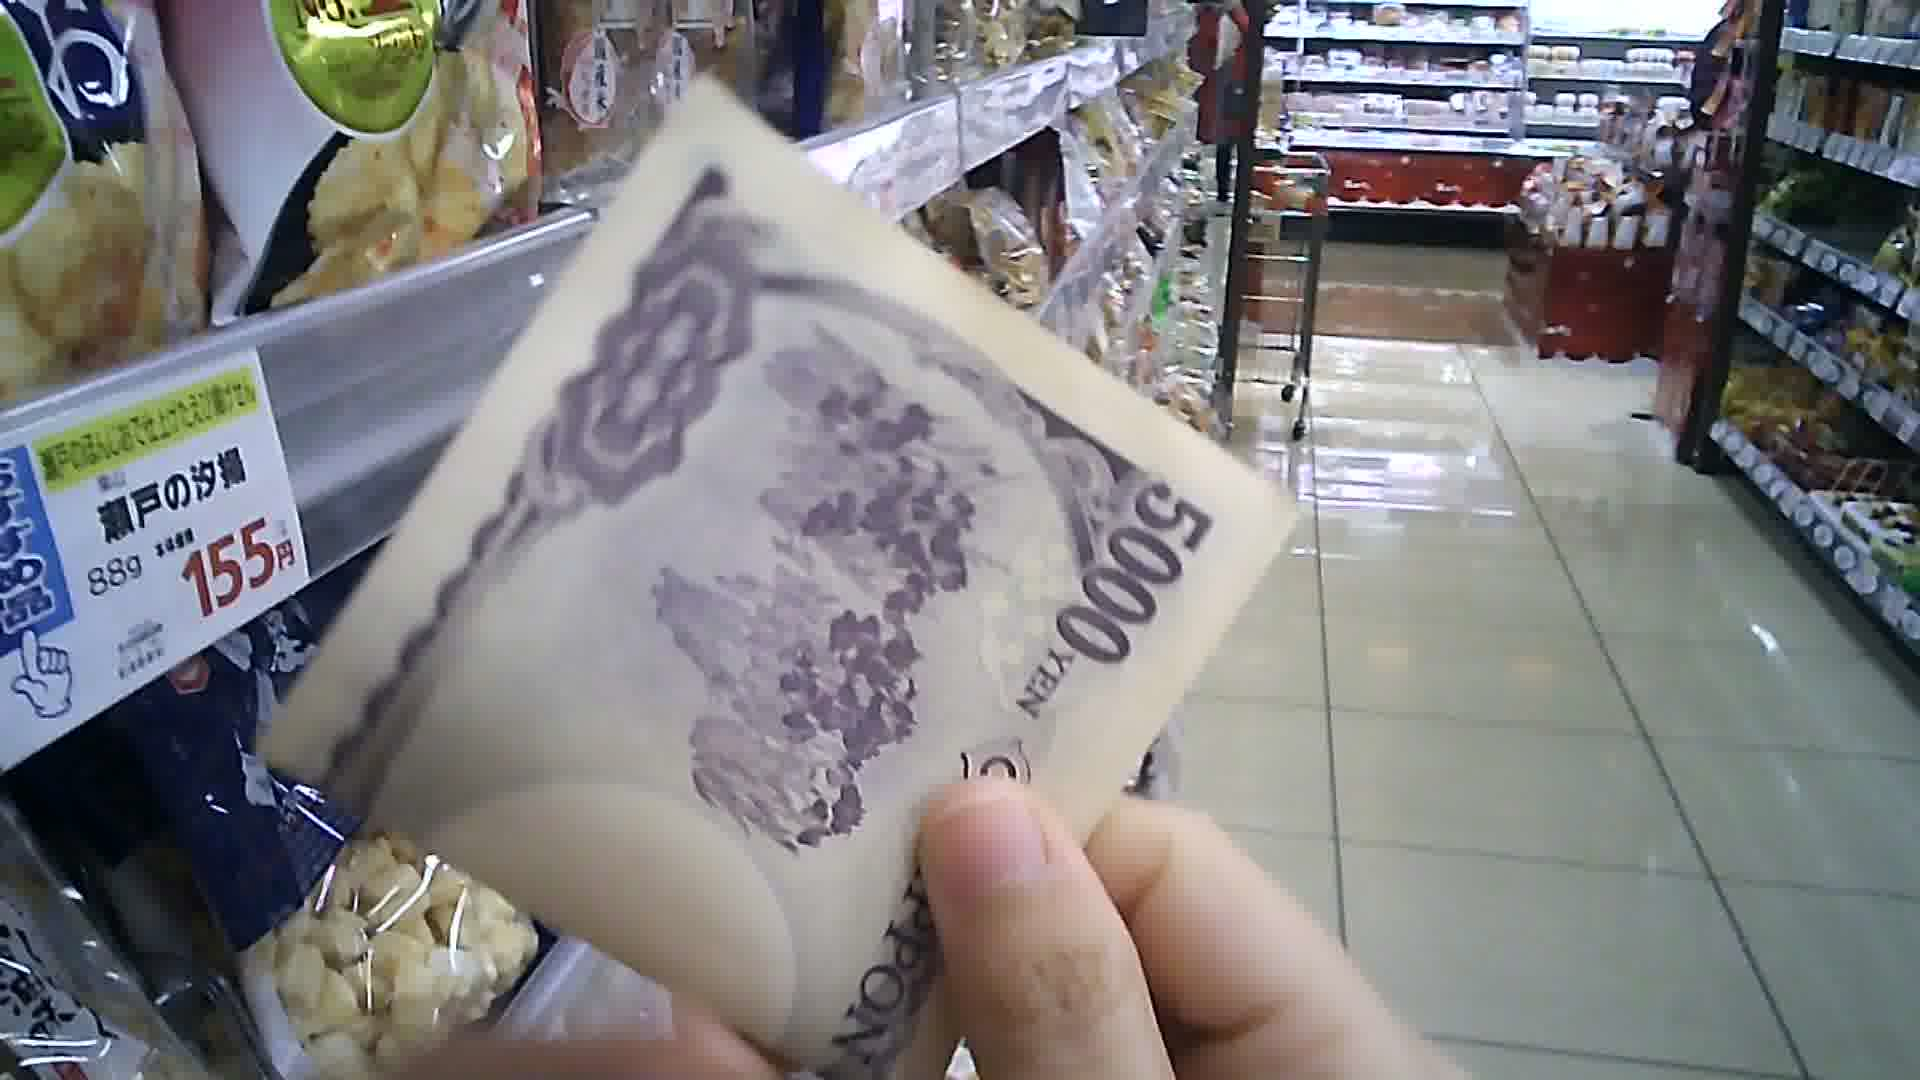5,000 Yen: (284, 50, 1305, 1079)
